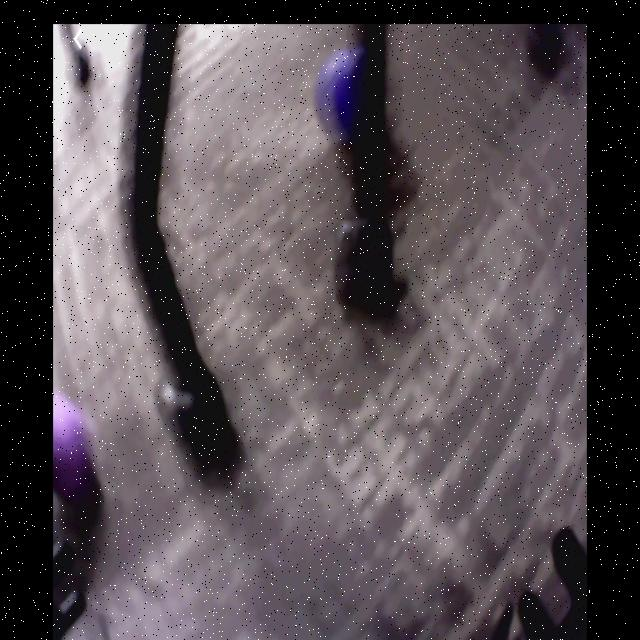ball: (53, 389, 93, 494), (316, 46, 359, 138)
